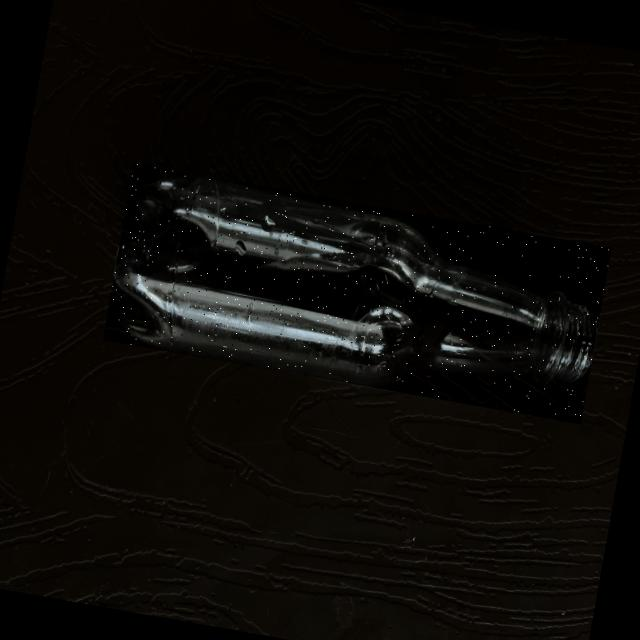PET_With_Liquid: (114, 173, 578, 386)
